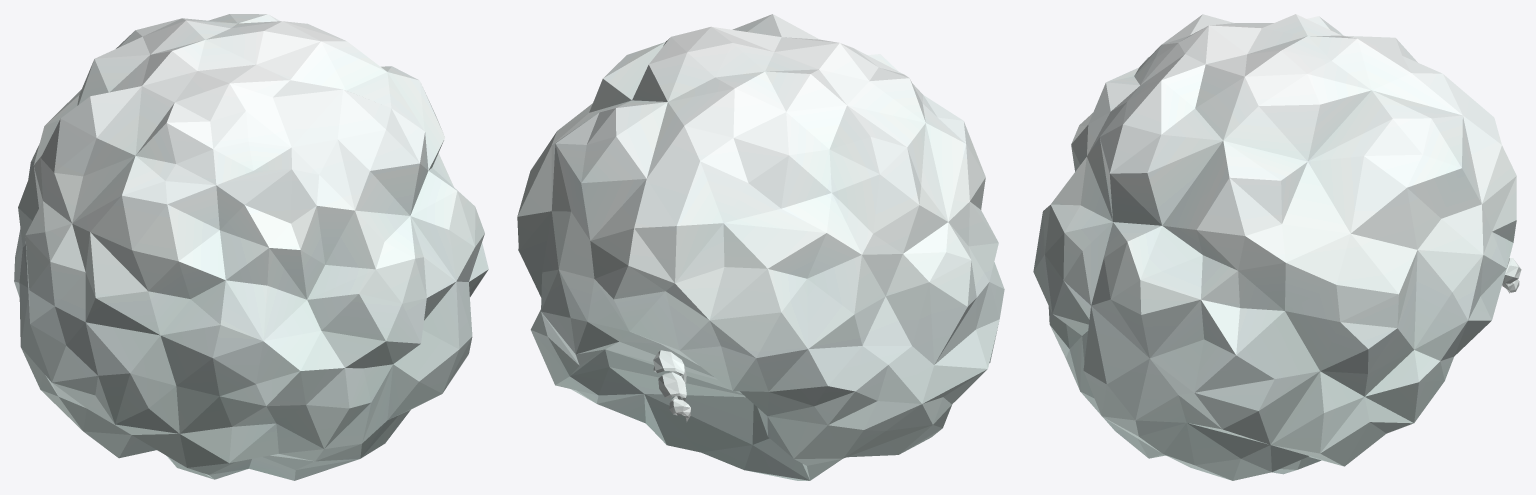
File: CharSkyKid_Hair_Afro.glb
3 views of the same model, side by side, from view 1: azimuth 30°, elevation 25°; view 2: azimuth 150°, elevation 25°; view 3: azimuth 270°, elevation 25° (orthographic).
Visible parts, largest first — view 1: CharSkyKid_Hair_Afro; view 2: CharSkyKid_Hair_Afro; view 3: CharSkyKid_Hair_Afro.
Part boxes in pixels (x1=…): CharSkyKid_Hair_Afro: x1=14, y1=14, x2=488, y2=480; CharSkyKid_Hair_Afro: x1=517, y1=14, x2=1004, y2=480; CharSkyKid_Hair_Afro: x1=1033, y1=14, x2=1521, y2=480.
Size of the model in its own units: 5.72 by 5.24 by 5.69.
1 material, 1 textured.
